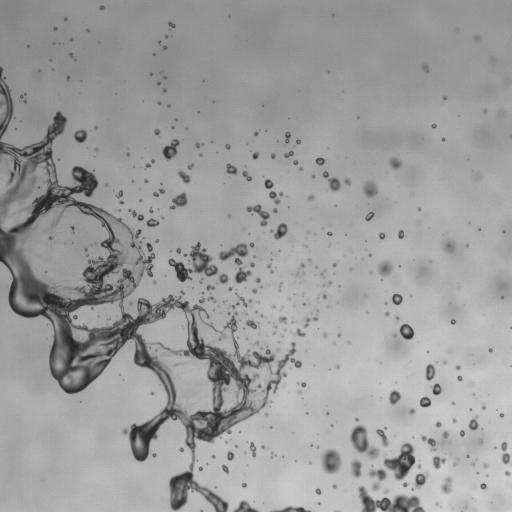droplet: (368, 442, 415, 491), (168, 242, 217, 282), (218, 243, 251, 283), (320, 448, 342, 473), (162, 139, 179, 160), (170, 192, 187, 209), (271, 223, 287, 239), (413, 472, 429, 488), (378, 260, 393, 277), (399, 323, 414, 339), (363, 181, 377, 197), (351, 459, 362, 477), (441, 476, 452, 493), (74, 129, 87, 142), (389, 390, 401, 404), (425, 364, 435, 380), (442, 240, 455, 252), (432, 456, 445, 468), (389, 157, 401, 169), (178, 171, 190, 183), (468, 416, 478, 430), (419, 396, 431, 407), (295, 263, 304, 277), (226, 163, 237, 174), (246, 320, 259, 329), (291, 328, 305, 336), (392, 294, 402, 305), (432, 383, 441, 395), (146, 218, 159, 226), (218, 273, 228, 283), (365, 212, 374, 220), (315, 158, 325, 165), (284, 151, 293, 158), (227, 451, 234, 460), (206, 284, 214, 291), (278, 316, 286, 323), (116, 190, 122, 198), (398, 230, 404, 238), (222, 465, 228, 473), (20, 93, 25, 102), (422, 64, 428, 71), (252, 152, 258, 159), (344, 178, 350, 185), (442, 431, 448, 438), (453, 458, 459, 465), (480, 483, 487, 489), (298, 382, 306, 387), (435, 421, 441, 427), (168, 22, 174, 27), (154, 129, 159, 135), (187, 164, 193, 169), (475, 174, 481, 179), (308, 195, 314, 200), (379, 233, 384, 239), (321, 294, 327, 299), (322, 332, 327, 338), (457, 375, 462, 381), (315, 488, 320, 494), (70, 225, 74, 232), (176, 248, 181, 253), (327, 281, 332, 286), (252, 288, 257, 293), (409, 408, 414, 413), (460, 430, 464, 436), (99, 5, 104, 9), (196, 143, 201, 147), (226, 144, 230, 149), (271, 153, 275, 158), (293, 160, 297, 165), (149, 208, 153, 213), (48, 236, 53, 240), (250, 262, 254, 267), (385, 311, 389, 316), (451, 319, 455, 324), (456, 365, 460, 370), (483, 463, 488, 467), (504, 471, 509, 475), (332, 484, 336, 489), (432, 124, 436, 128), (296, 139, 300, 143), (273, 208, 277, 212), (249, 242, 253, 246), (256, 278, 260, 282), (254, 341, 258, 345), (442, 360, 446, 364), (297, 390, 301, 394), (499, 413, 503, 417), (152, 453, 156, 457), (198, 466, 202, 470), (242, 483, 246, 487), (384, 489, 388, 493), (321, 271, 324, 276), (476, 36, 479, 40), (442, 137, 445, 141), (418, 207, 421, 211), (327, 232, 331, 235), (153, 280, 156, 284), (228, 287, 232, 290), (273, 324, 277, 327), (452, 419, 456, 422), (262, 445, 265, 449), (417, 465, 421, 468), (163, 46, 166, 49), (70, 53, 73, 56), (158, 101, 161, 104), (483, 109, 486, 112), (254, 132, 257, 135), (126, 153, 129, 156), (299, 167, 302, 170), (120, 201, 123, 204), (308, 259, 311, 262), (333, 263, 336, 266), (129, 302, 132, 305), (272, 305, 275, 308), (260, 314, 263, 317), (337, 333, 340, 336), (489, 348, 492, 351), (482, 406, 485, 409), (180, 448, 183, 451), (212, 455, 215, 458), (243, 312, 247, 314), (64, 18, 67, 20), (54, 27, 56, 30), (163, 89, 166, 91), (443, 97, 446, 99), (171, 126, 174, 128), (199, 154, 202, 156), (312, 175, 315, 177), (144, 180, 147, 182), (396, 316, 398, 319), (107, 318, 110, 320), (393, 334, 396, 336), (276, 349, 279, 351), (336, 366, 339, 368), (470, 383, 473, 385), (151, 392, 153, 395), (451, 402, 454, 404), (494, 446, 496, 449), (472, 462, 474, 465), (158, 41, 160, 43), (67, 77, 69, 79), (95, 149, 97, 151), (228, 215, 230, 217), (156, 240, 158, 242), (94, 243, 96, 245), (304, 245, 306, 247), (200, 280, 202, 282), (317, 296, 319, 298), (303, 303, 305, 305), (255, 311, 257, 313), (284, 329, 286, 331), (356, 418, 358, 420), (480, 440, 482, 442), (272, 454, 274, 456), (317, 502, 319, 504)
ligament: (0, 66, 301, 511), (358, 485, 424, 511), (350, 424, 379, 458), (246, 204, 269, 226), (264, 179, 283, 204), (323, 171, 340, 191), (233, 500, 258, 511), (421, 435, 436, 451), (501, 441, 511, 465), (376, 429, 388, 447), (271, 506, 311, 511), (303, 315, 318, 327), (129, 209, 143, 220), (153, 188, 164, 197), (242, 171, 251, 181), (249, 442, 255, 456), (145, 159, 154, 168), (285, 132, 290, 143), (267, 264, 273, 272), (278, 283, 281, 290), (335, 510, 339, 511), (510, 484, 511, 487), (200, 510, 203, 511), (473, 510, 476, 511)
